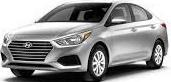Cars: (3, 4, 169, 81)
